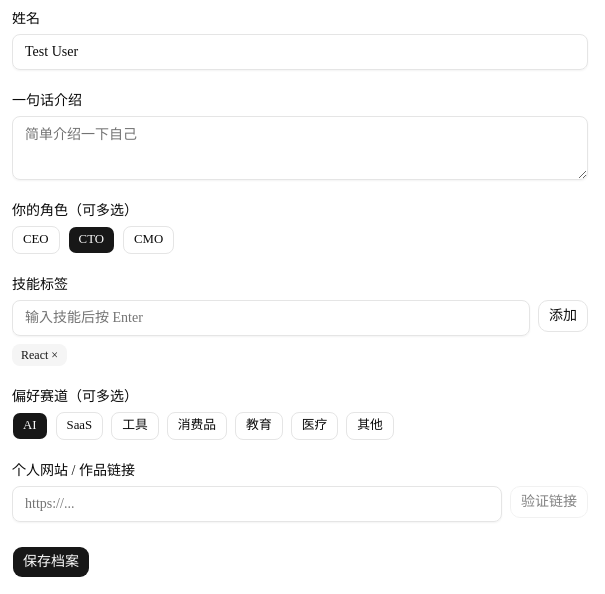
Test: ProfileForm › 输入技能并点击添加后，技能出现在标签列表中
Type "Vue" into the field with placeholder "输入技能后按 Enter".
click(271, 318); type("Vue")  # box [12,300,530,336]
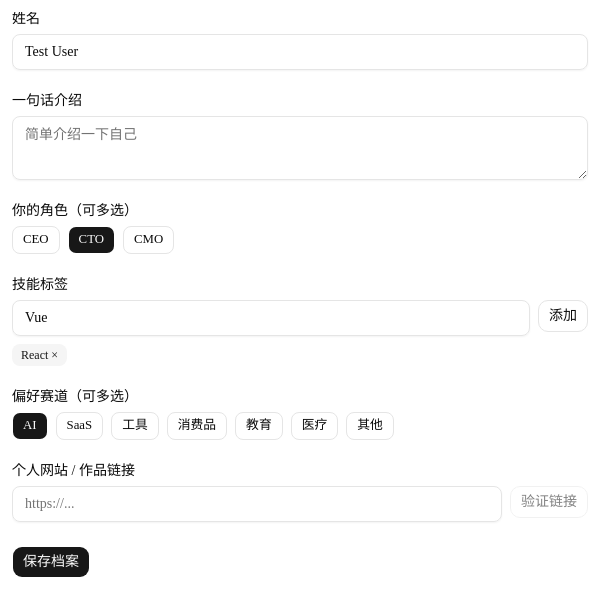
Click the button "添加".
click(563, 316)  # box [538,300,588,332]
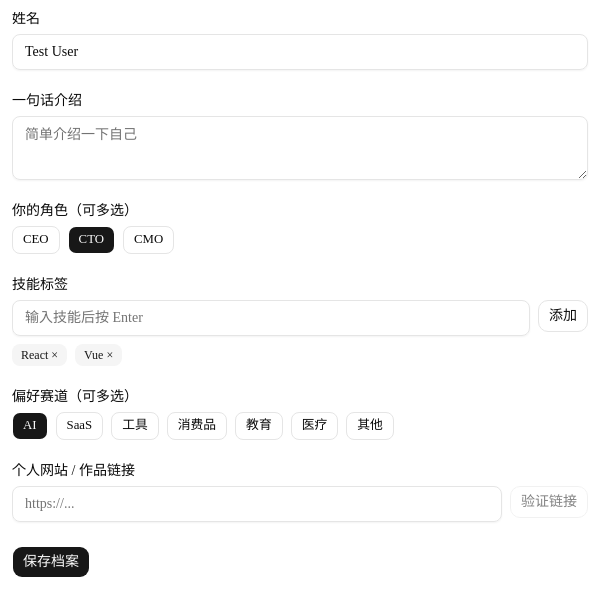
Check: the text "Vue ×" is shown, box [75,344,122,366]
